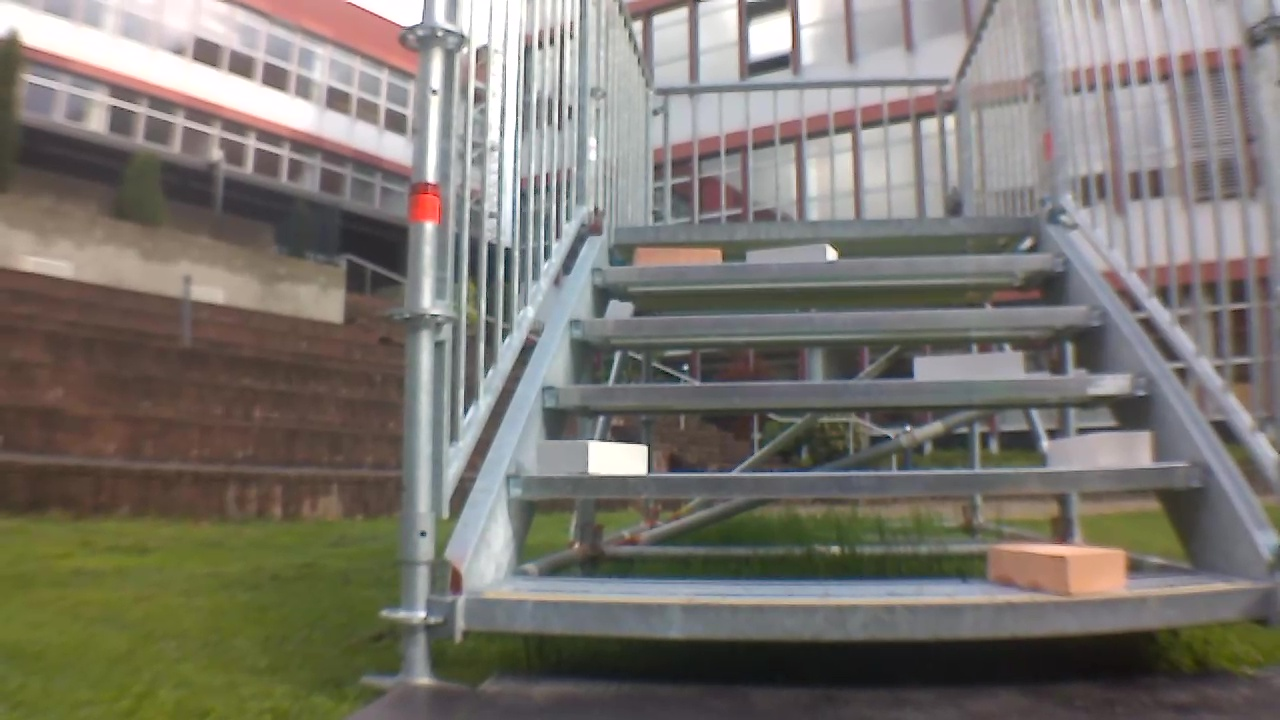brick: (990, 542, 1125, 596), (1048, 432, 1151, 468), (537, 441, 647, 474), (915, 351, 1021, 378), (746, 243, 837, 262), (635, 247, 720, 264)
edge: (468, 586, 1270, 636), (508, 465, 1209, 496), (543, 374, 1151, 407), (570, 304, 1103, 336), (593, 252, 1066, 283), (612, 214, 1040, 239)
stairs: (392, 3, 1280, 683)
steps: (460, 206, 1274, 644)
